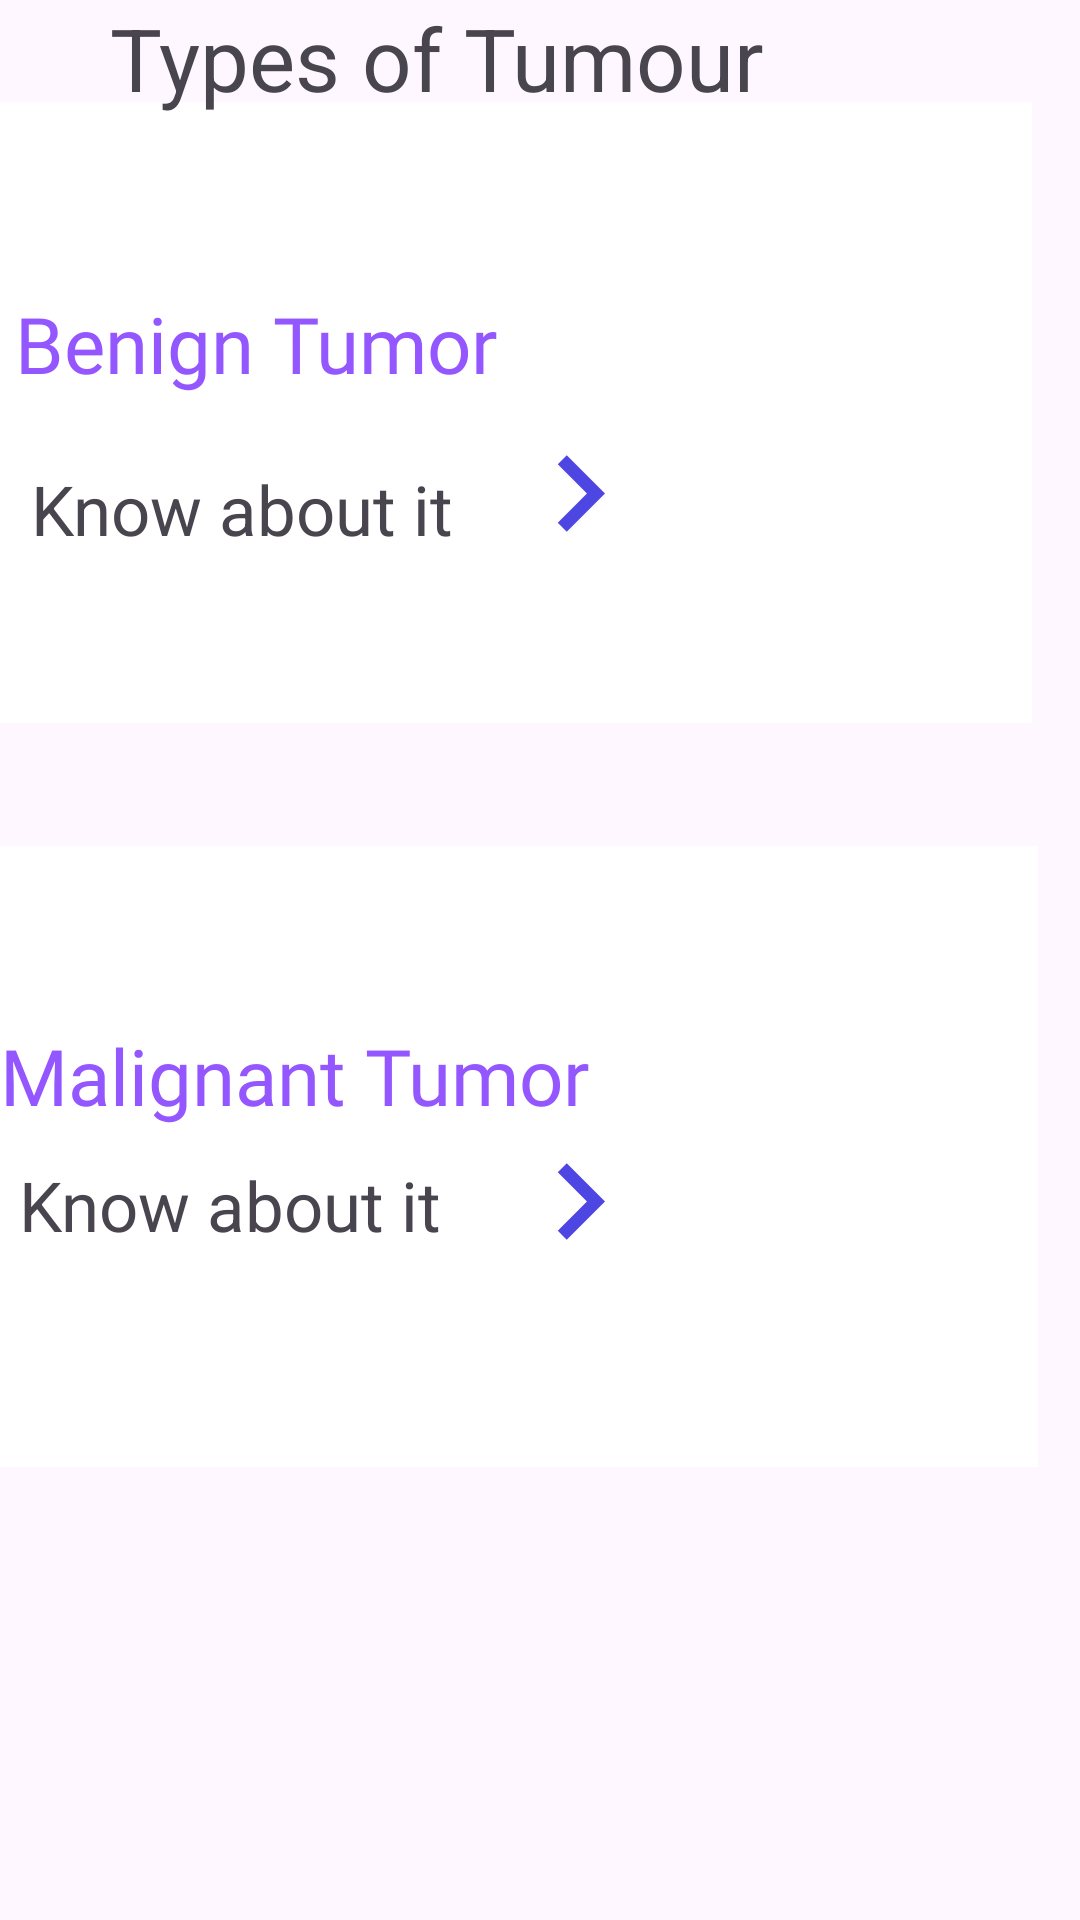

Icons on this 1080px x 1920px Android screen, each with the point to tap as point (x, y):
keyboard arrow right: point (581, 493), point (581, 1201)
